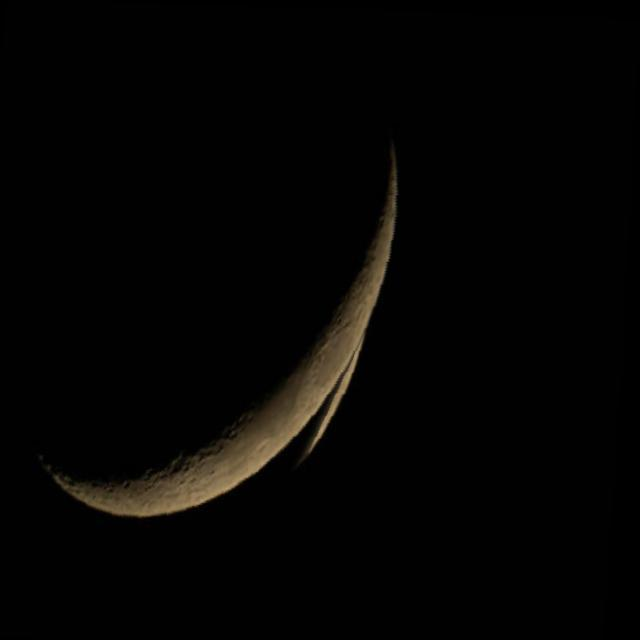moon: (0, 0, 443, 560)
